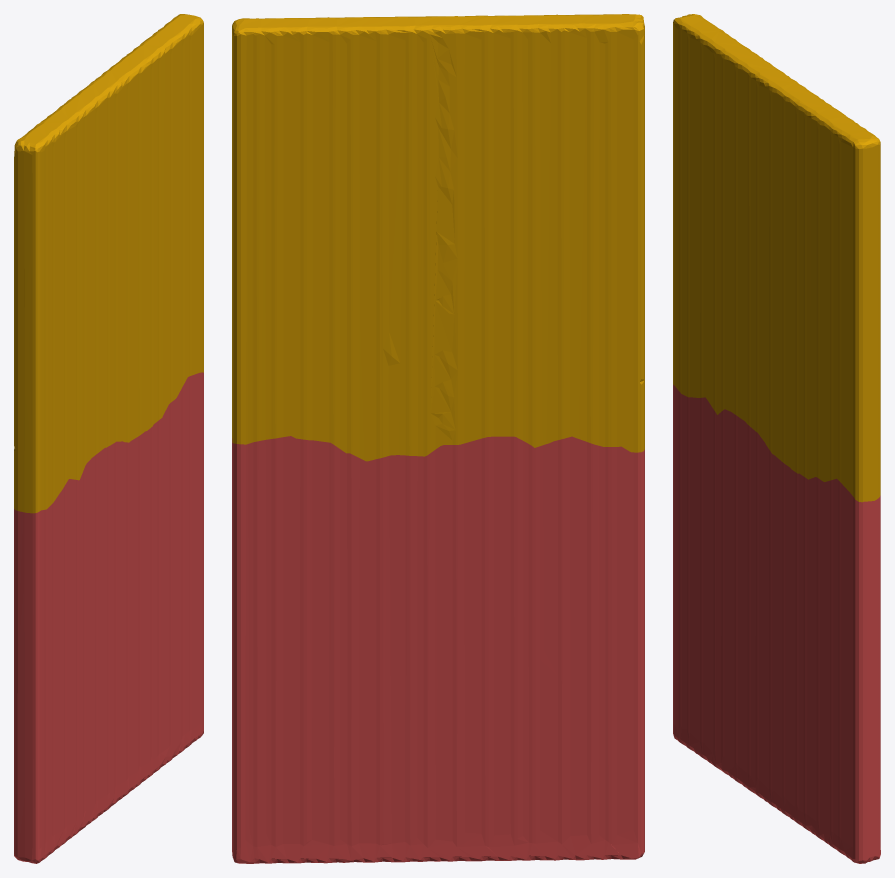
The model's file is fractured_42_2pcs.glb.
3 renders of one model, left to right at view 1: azimuth 30°, elevation 25°; view 2: azimuth 150°, elevation 25°; view 3: azimuth 270°, elevation 25°, orthographic. The views are drawn at different scales.
Visible parts, largest first — view 1: piece_0.obj, piece_1.obj; view 2: piece_0.obj, piece_1.obj; view 3: piece_0.obj, piece_1.obj.
Part boxes in pixels (bbox=[...]): piece_0.obj: bbox=[14, 14, 203, 513]; piece_1.obj: bbox=[14, 372, 203, 863]; piece_0.obj: bbox=[232, 14, 644, 461]; piece_1.obj: bbox=[232, 436, 644, 863]; piece_0.obj: bbox=[673, 14, 880, 502]; piece_1.obj: bbox=[673, 384, 880, 863].
Size of the model in its own units: 0.3933 by 1 by 0.2607.
